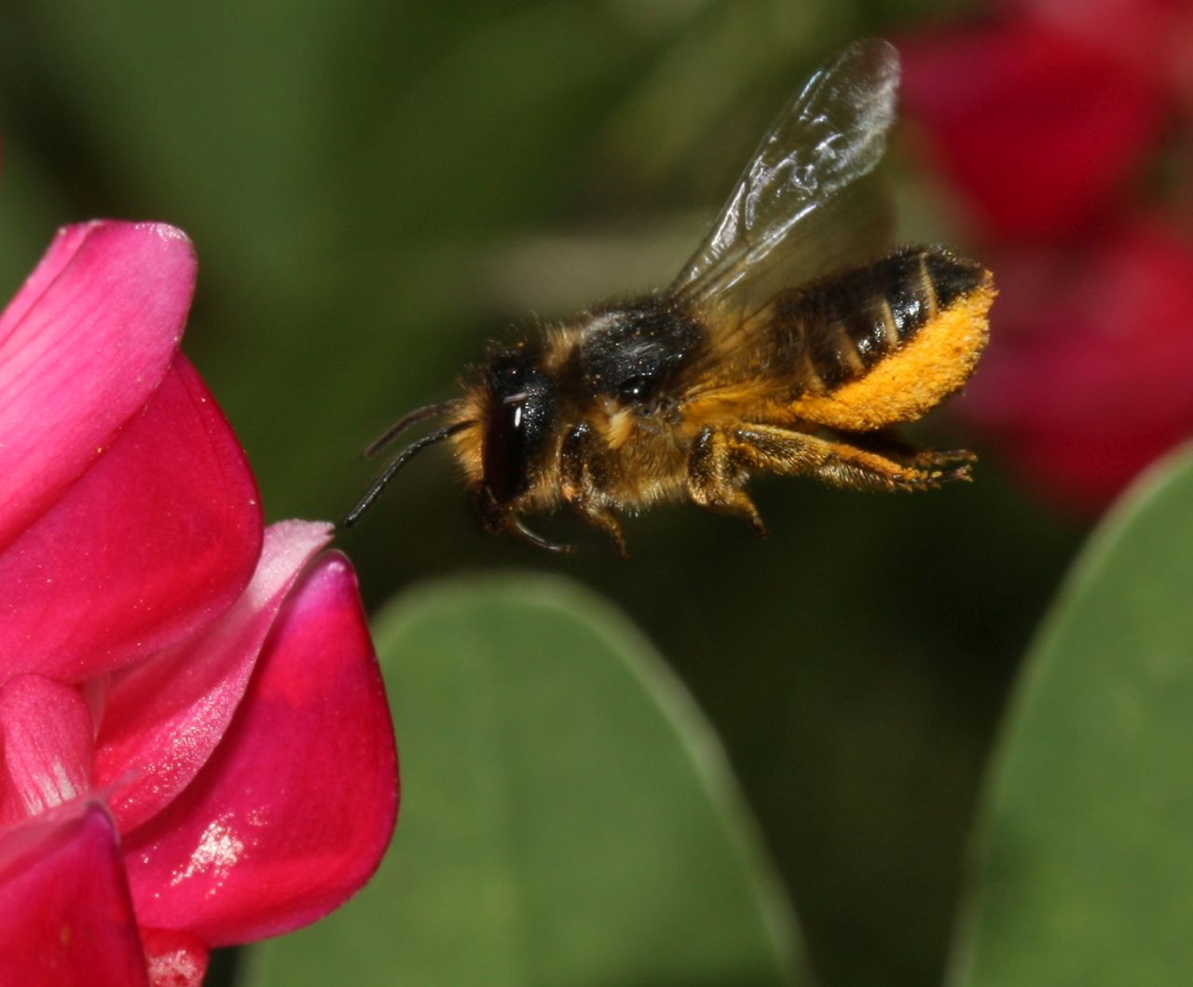Megachile centuncularis: (328, 27, 1062, 533)
